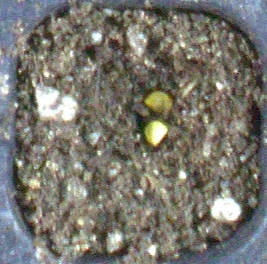chilli seed: (144, 120, 168, 146), (144, 91, 172, 113)
